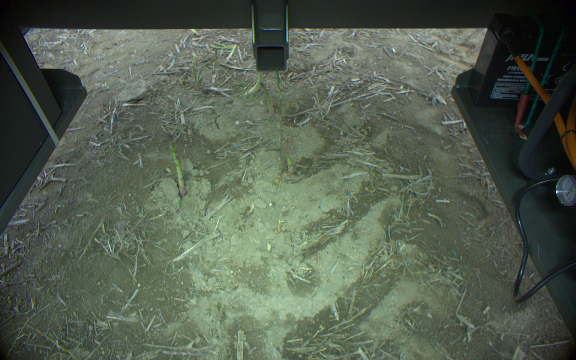aspa: (165, 133, 186, 197), (257, 81, 273, 114), (247, 72, 265, 97)
